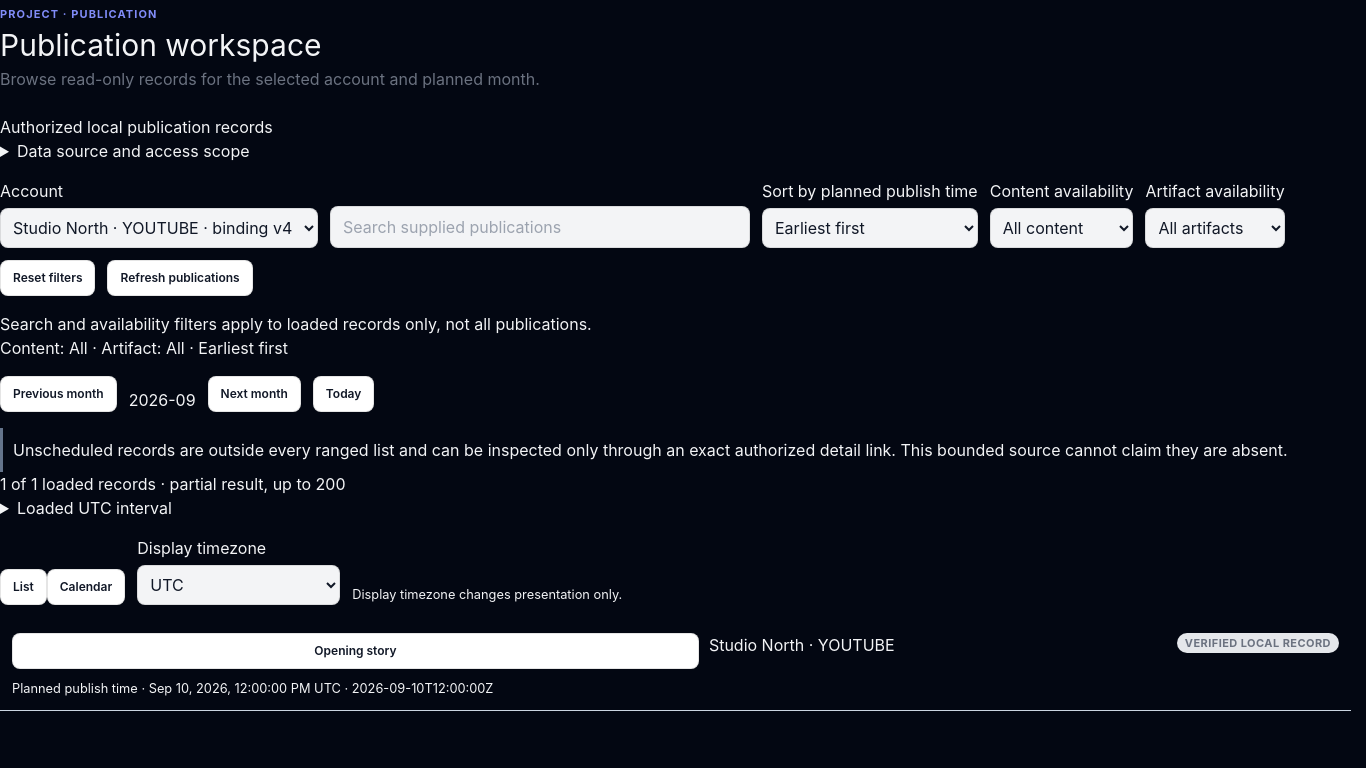
authorized Publication workspace › retires the verified snapshot and Selection when a refresh reports revoked authorization
Click the button "Opening story" at {"x": 355, "y": 650}, box [12,632,699,668]
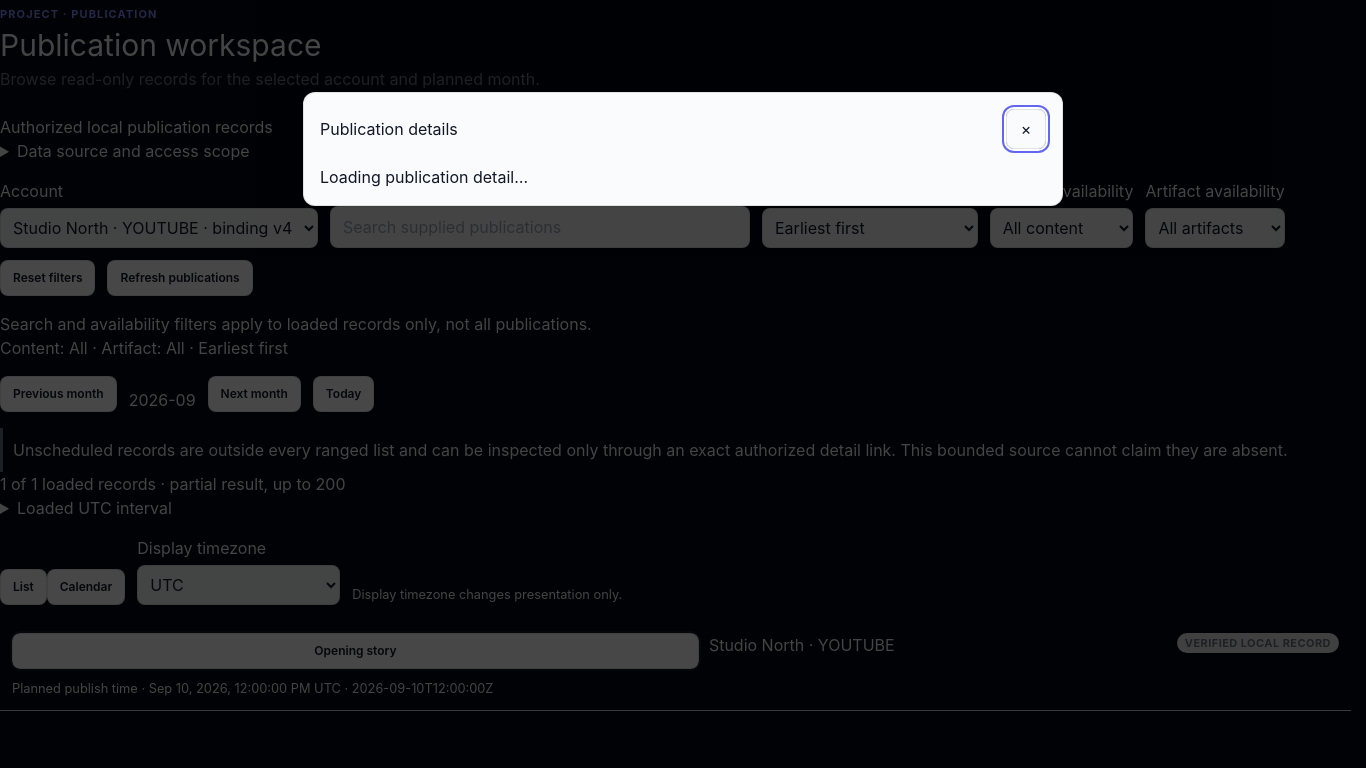
Click the button named "Close publication details" at {"x": 1026, "y": 129}, box [1006,109,1046,149]
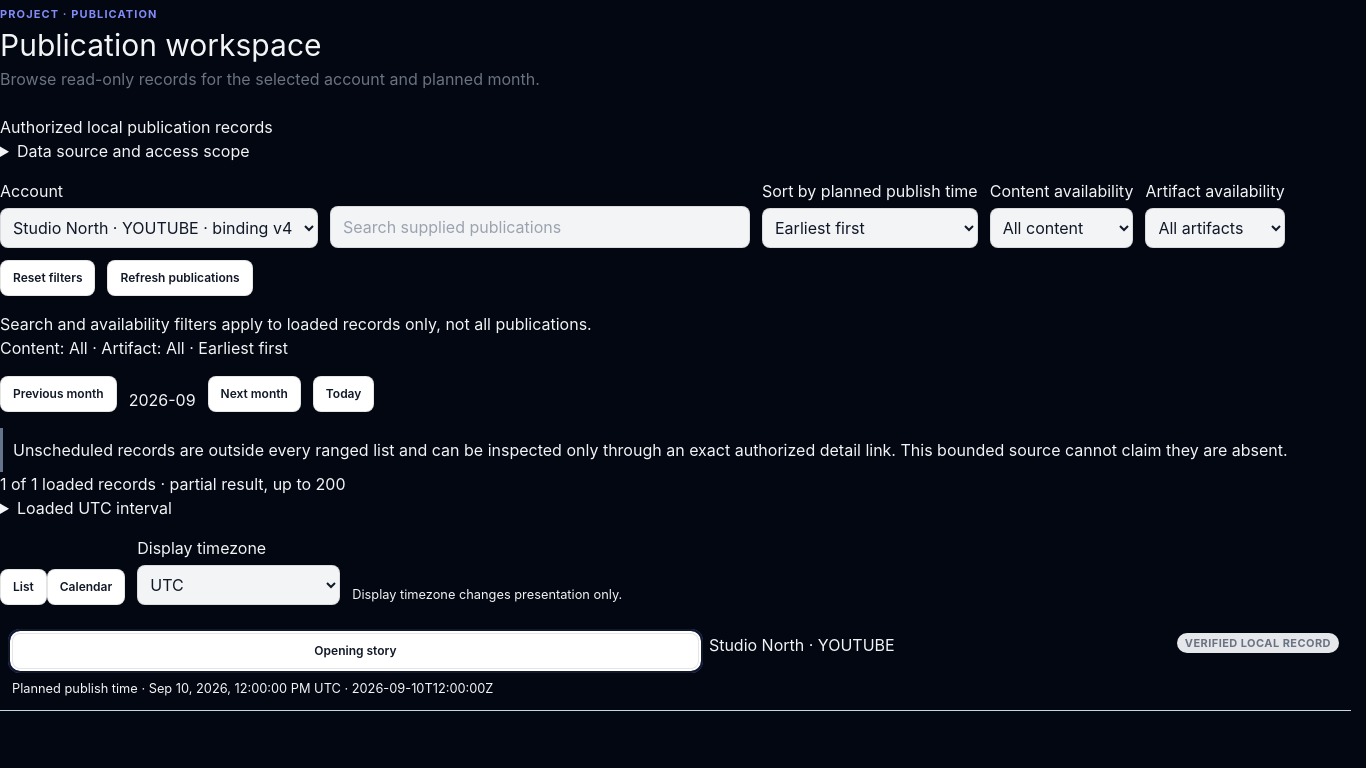
Click the button "Refresh publications" at {"x": 180, "y": 278}, box [108,260,253,296]
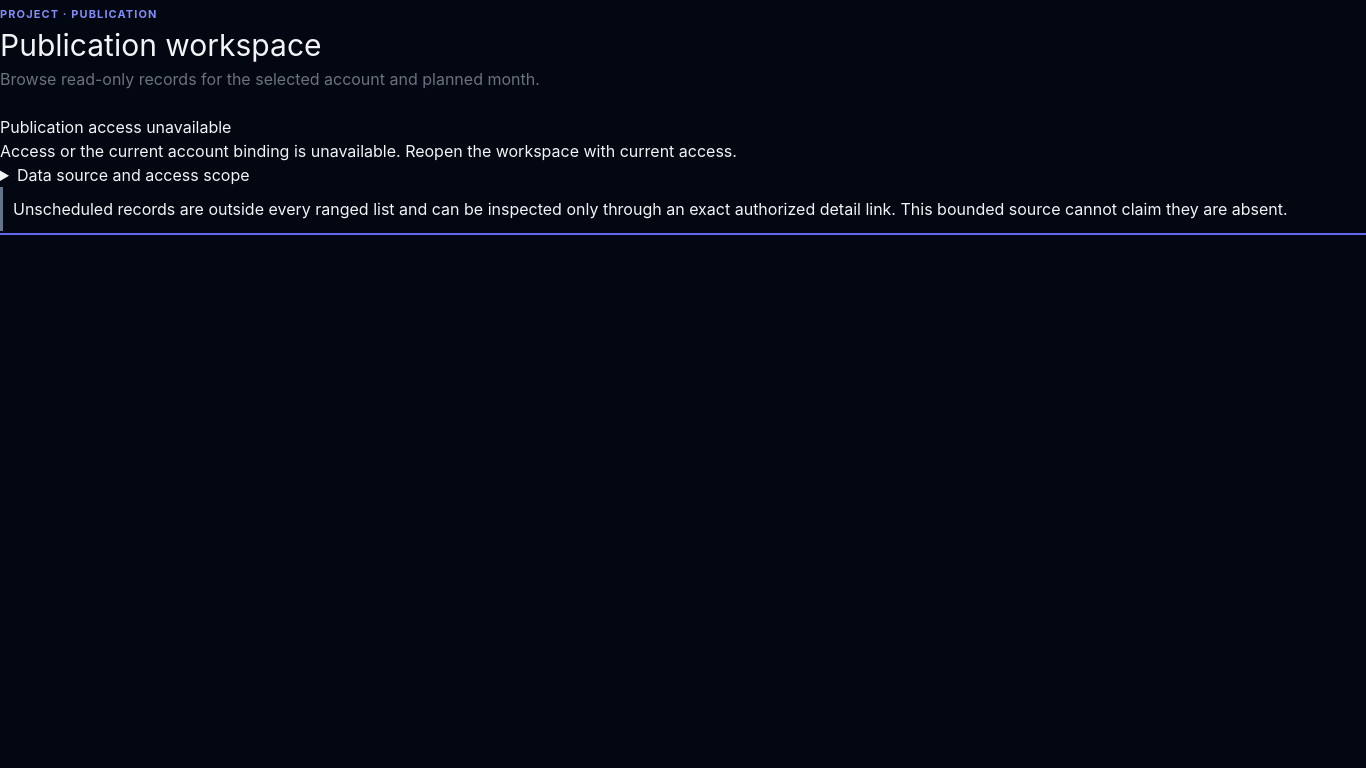
Expected: the text "Publication access unavailable" is shown, [0,116,232,136]
Expected: the button "Opening story" is gone
